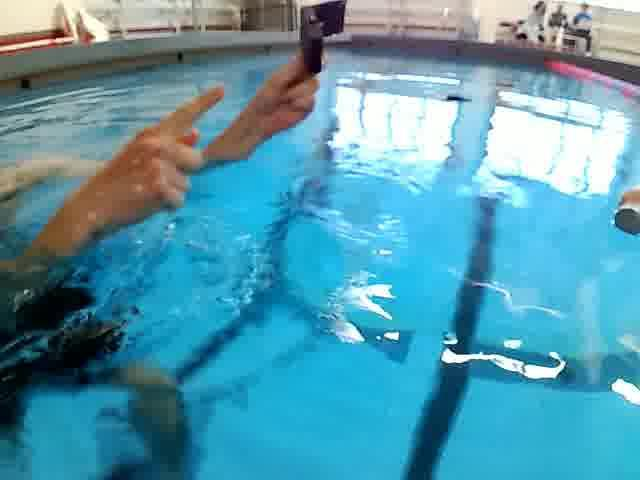Bottle: (604, 181, 640, 239)
CamMount: (292, 0, 354, 76), (443, 93, 477, 106)
